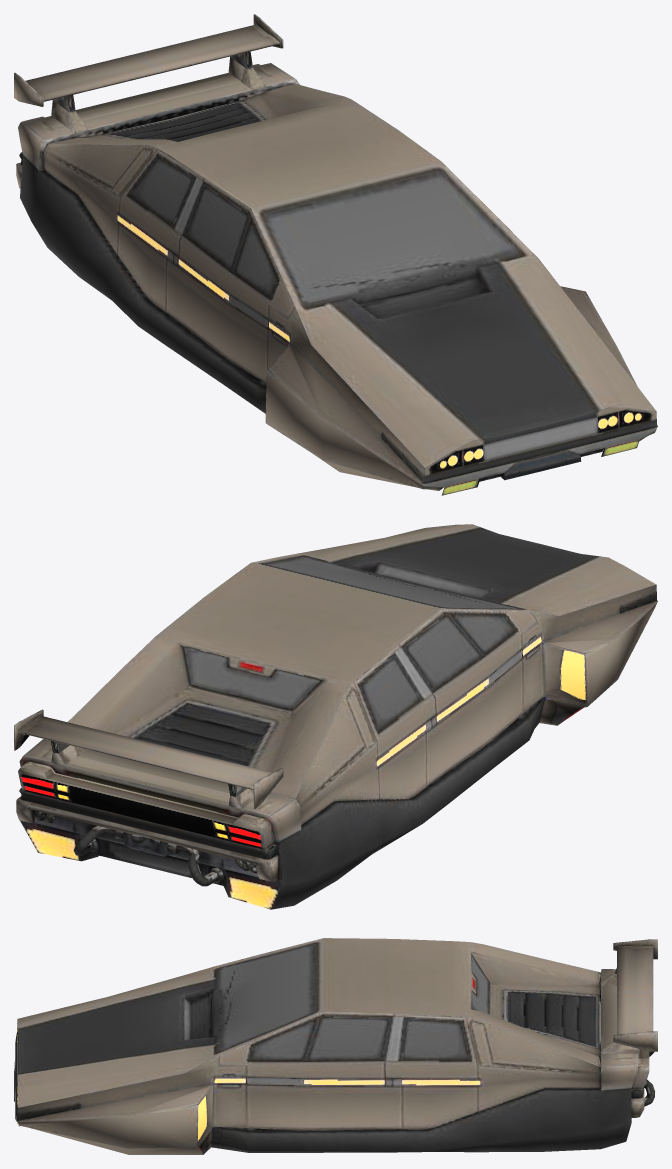
File: cybercar01.glb
The picture shows the model from 3 angles, top to bottom: view 1: azimuth 30°, elevation 25°; view 2: azimuth 150°, elevation 25°; view 3: azimuth 270°, elevation 25°; orthographic projection. The views are drawn at different scales.
Visible parts, largest first — view 1: CAR_LOW1_Baked; view 2: CAR_LOW1_Baked; view 3: CAR_LOW1_Baked.
Boxes of the visible parts, x1,y1,x2,y2 form: CAR_LOW1_Baked: [14, 14, 657, 495]; CAR_LOW1_Baked: [14, 524, 657, 909]; CAR_LOW1_Baked: [14, 938, 657, 1154].
Size of the model in its own units: 0.3483 by 0.1722 by 0.7653.
1 material, 1 textured.
